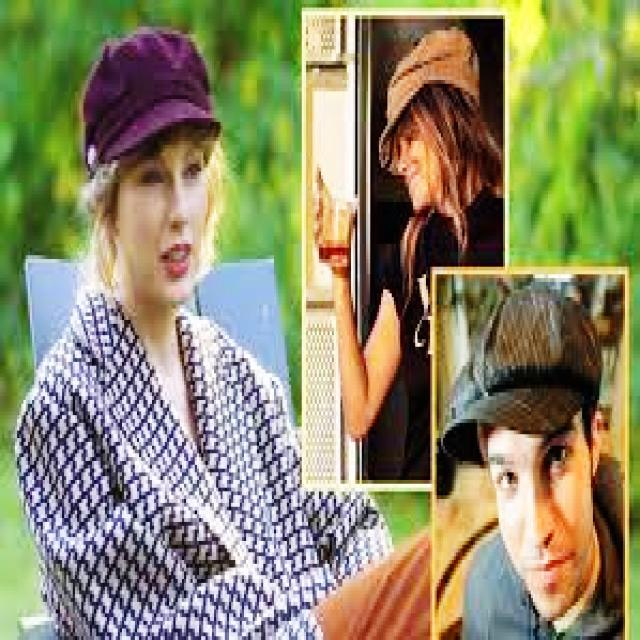TOPI: (437, 274, 608, 442), (73, 15, 227, 164), (368, 8, 480, 164)
